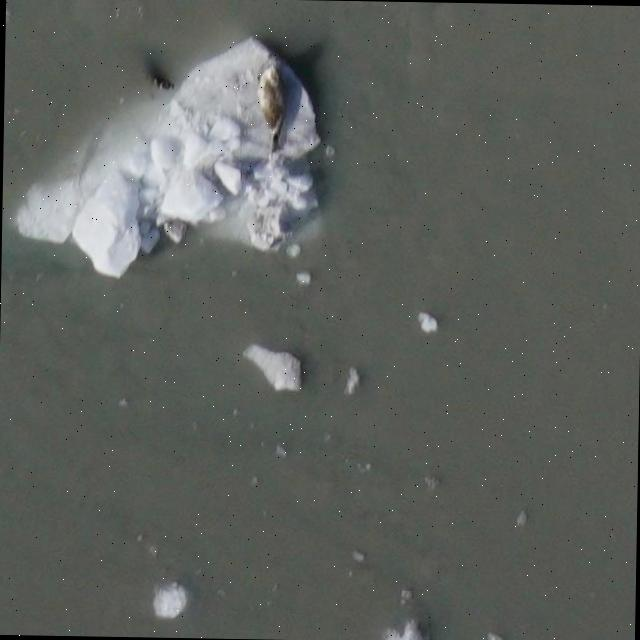seal: (253, 62, 290, 153)
